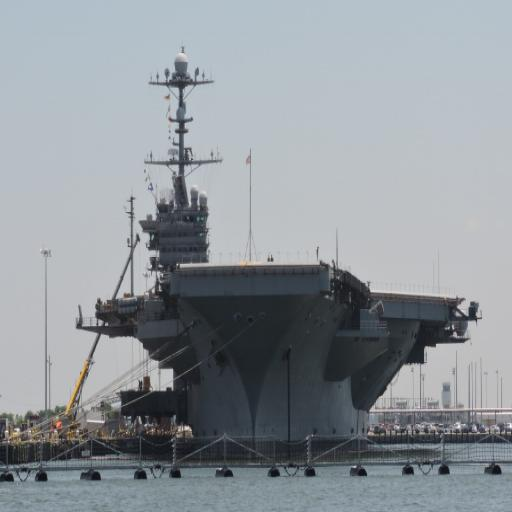Portanaves: (72, 43, 487, 462)
